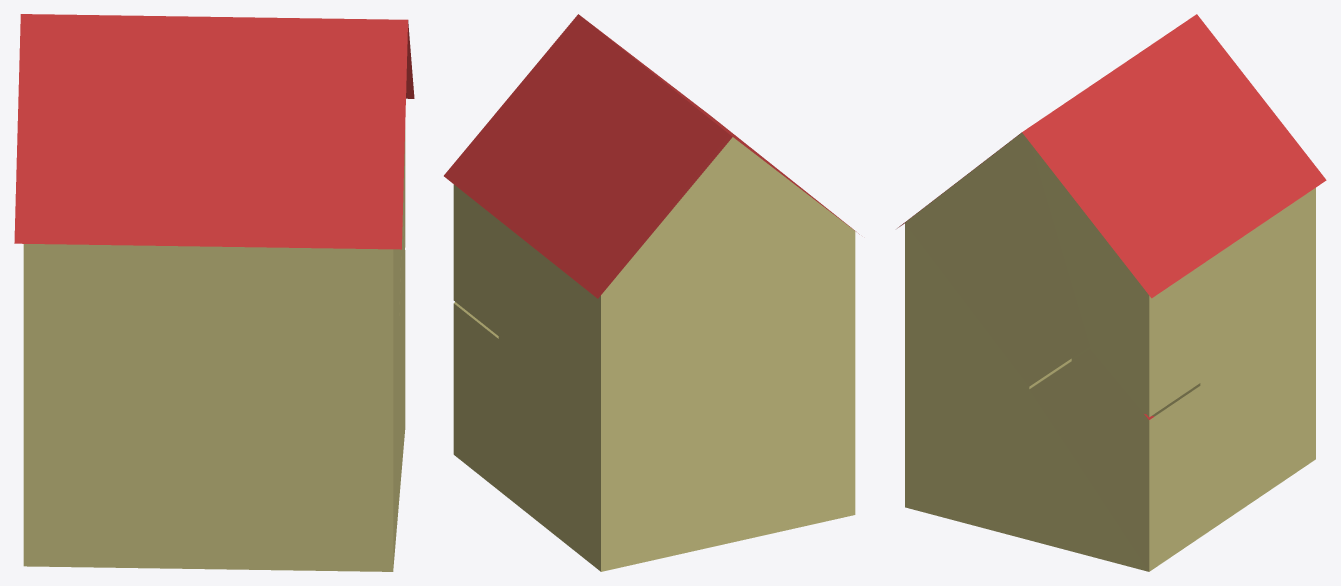
The picture shows the model from 3 angles, left to right: view 1: azimuth 30°, elevation 25°; view 2: azimuth 150°, elevation 25°; view 3: azimuth 270°, elevation 25°; orthographic projection. The views are drawn at different scales.
Size of the model in its own units: 14.4 by 14.13 by 14.77.
